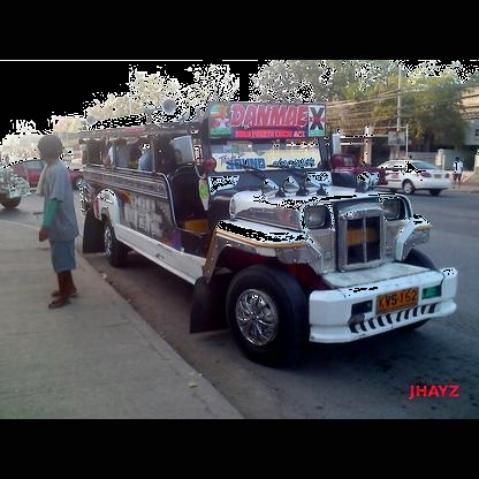jeepney: (80, 109, 430, 344)
